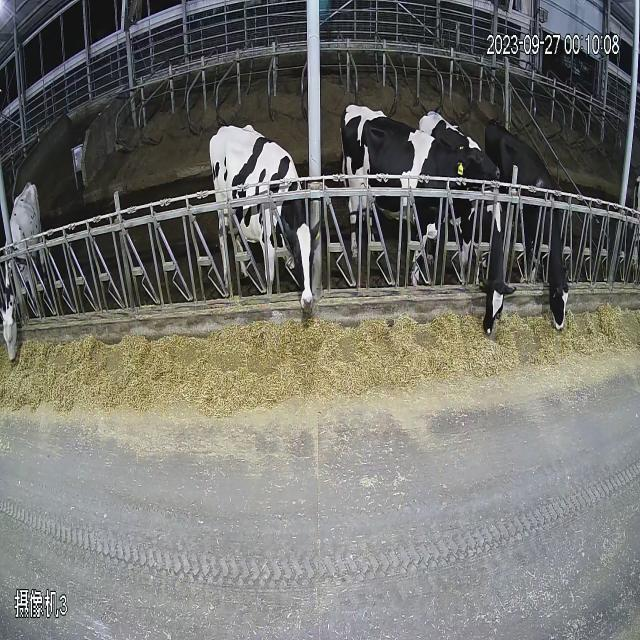feeding: (512, 110, 584, 340), (0, 126, 48, 398)
standing: (190, 111, 326, 332), (359, 71, 502, 245)
